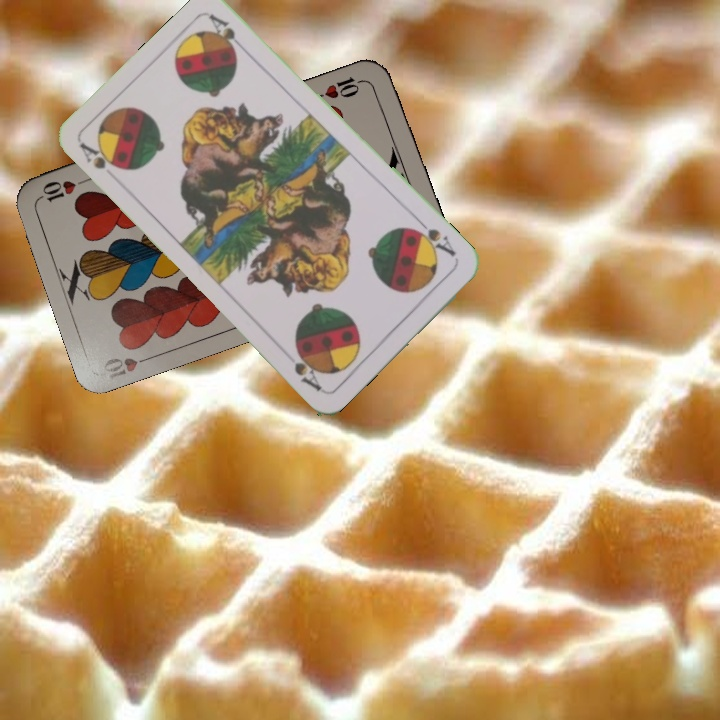H10: (99, 351, 159, 382), (311, 72, 369, 101)
SA: (408, 216, 458, 259), (75, 136, 129, 174)
